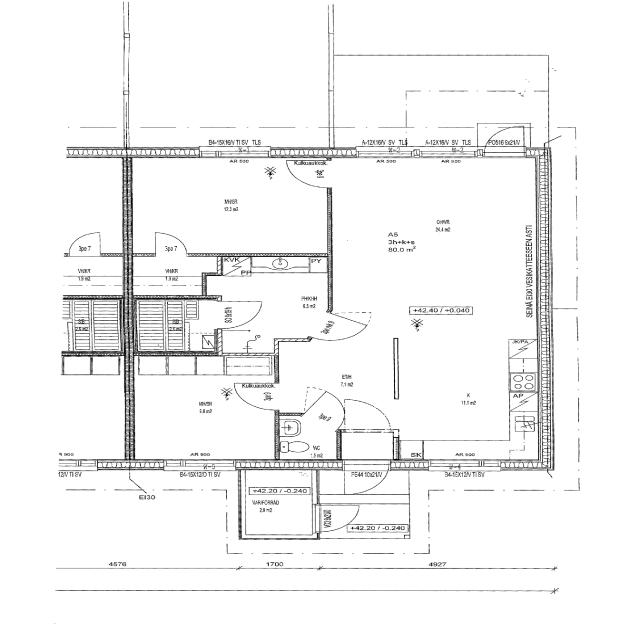door: (345, 396, 394, 431), (343, 461, 389, 494), (283, 156, 330, 188), (324, 310, 372, 340), (482, 124, 527, 154), (316, 503, 360, 532), (146, 229, 192, 256), (222, 300, 264, 329), (62, 232, 111, 256), (304, 387, 344, 409)
window: (196, 145, 274, 161), (414, 145, 480, 160), (350, 145, 412, 160), (426, 458, 490, 471)
zone: (337, 150, 546, 321), (392, 320, 536, 462), (128, 156, 331, 255), (128, 357, 274, 463), (222, 254, 331, 341), (237, 468, 315, 540), (135, 297, 222, 353), (126, 255, 214, 297), (274, 410, 341, 459)
